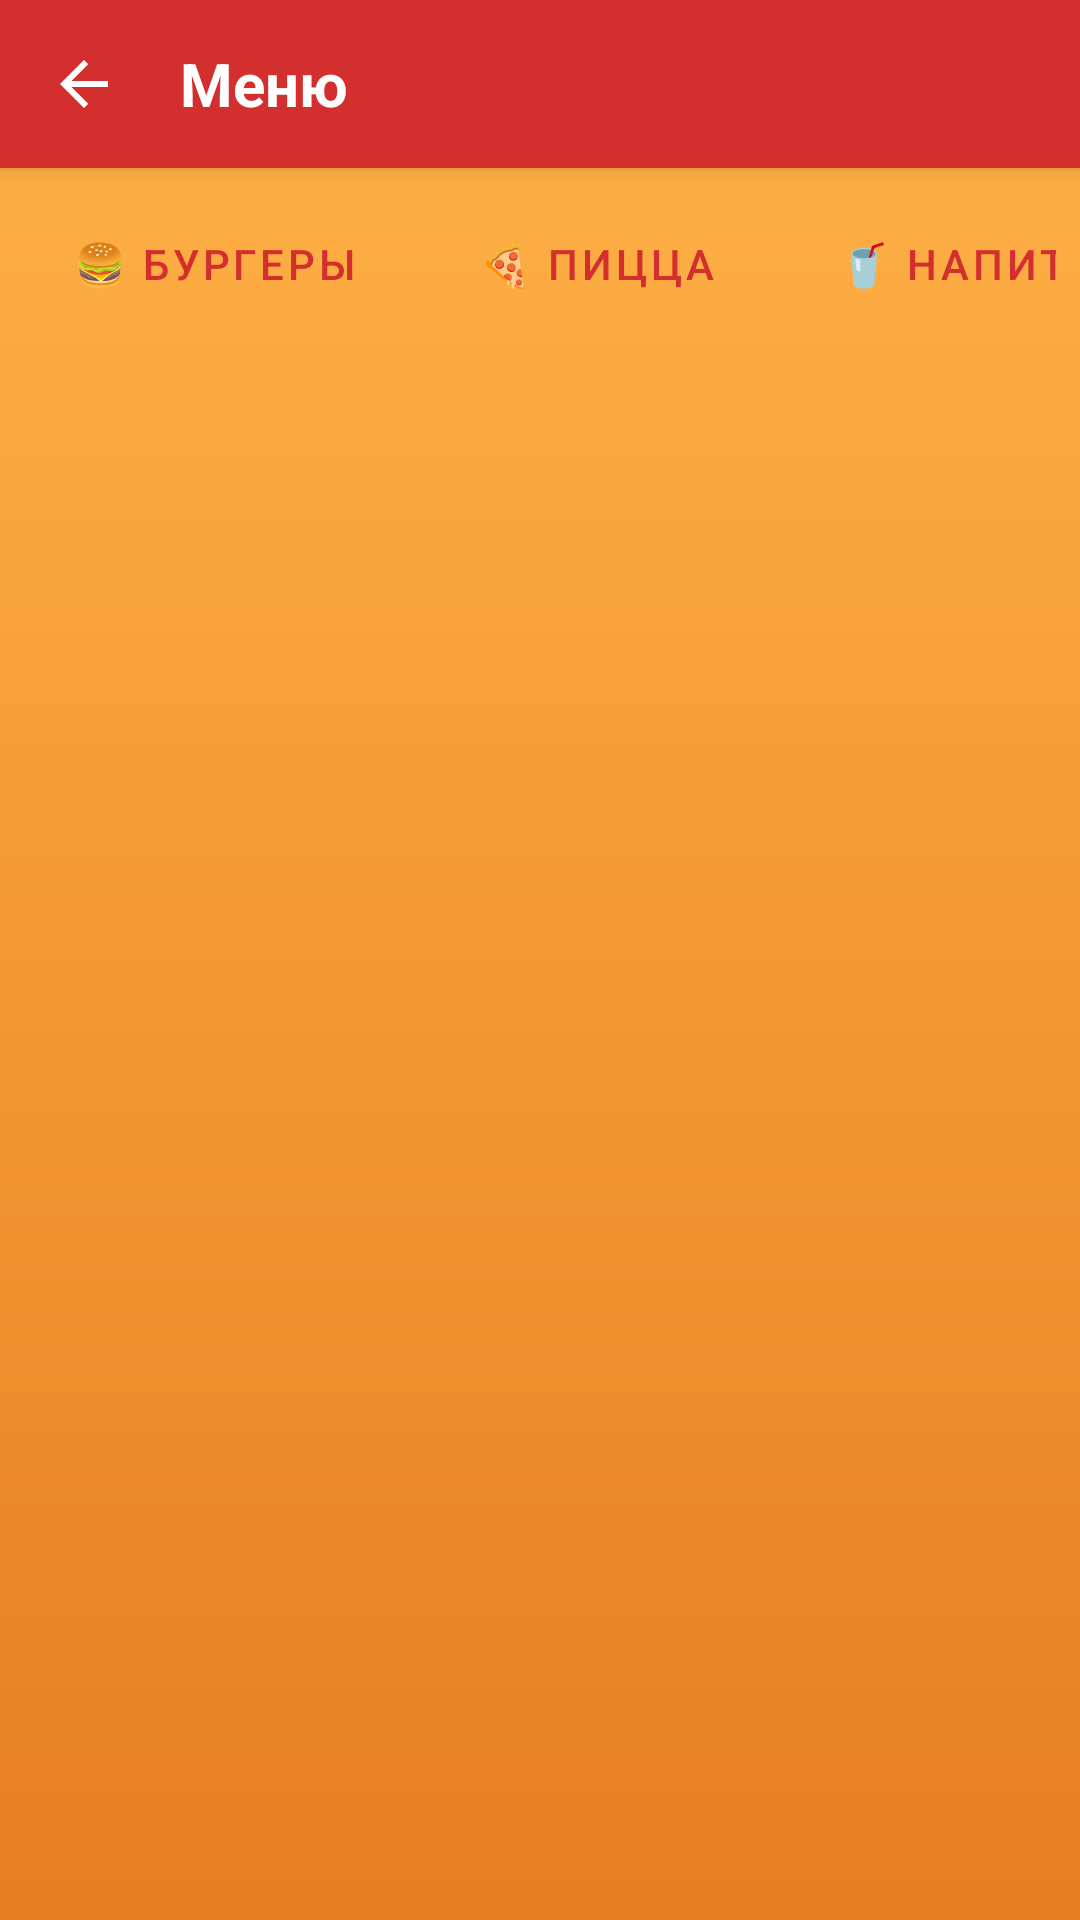

Icon bounding boxes for this 1080px×1920px phone screenshot, format (left=x1, top=y1, right=x2, bottom=y2):
Назад: (left=60, top=60, right=108, bottom=108)
